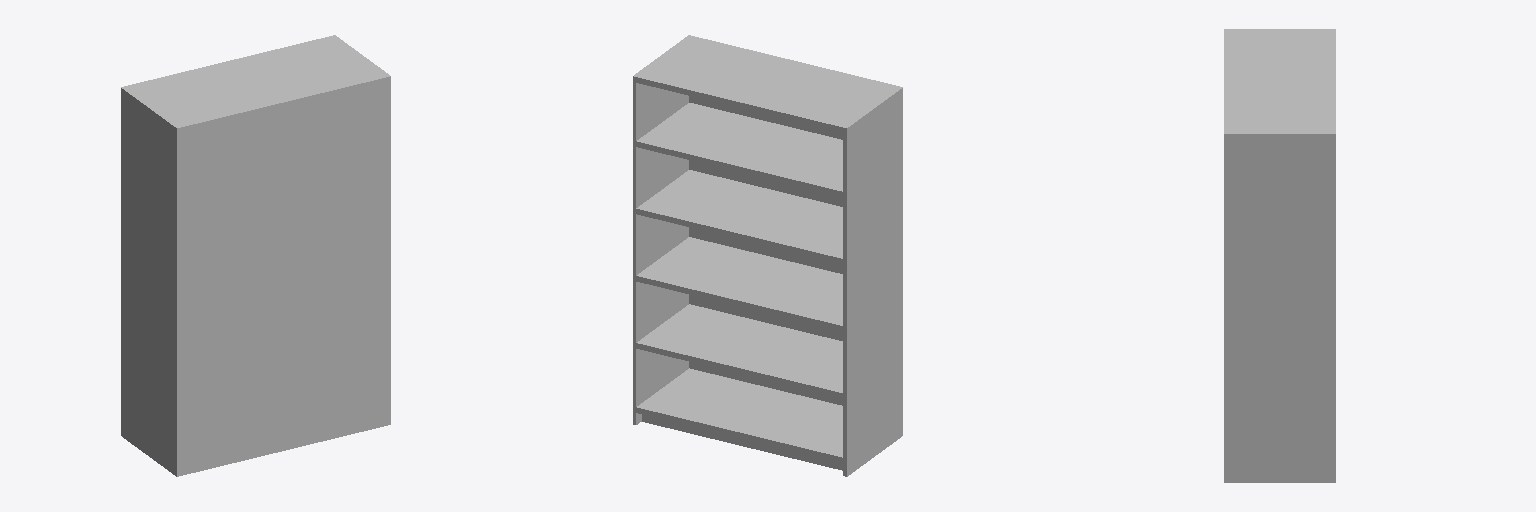
Rendered from Regal AK 1.obj.
3 views of the same model, side by side, from view 1: azimuth 30°, elevation 25°; view 2: azimuth 150°, elevation 25°; view 3: azimuth 270°, elevation 25° (orthographic).
Parts seen in each view (by area): view 1: Regal_AK_1; view 2: Regal_AK_1; view 3: Regal_AK_1.
Part boxes in pixels (x1,y1,x2,y2): Regal_AK_1: (121, 35, 390, 476); Regal_AK_1: (633, 35, 902, 476); Regal_AK_1: (1224, 29, 1335, 482).
Bounding box in the file's own units: 1.96 × 3.05 × 0.8931.